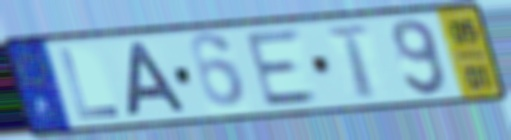6: (189, 29, 249, 117)
9: (389, 17, 449, 98)
A: (122, 39, 192, 119)
E: (242, 26, 324, 110)
L: (55, 47, 124, 122)
T: (323, 23, 381, 101)
